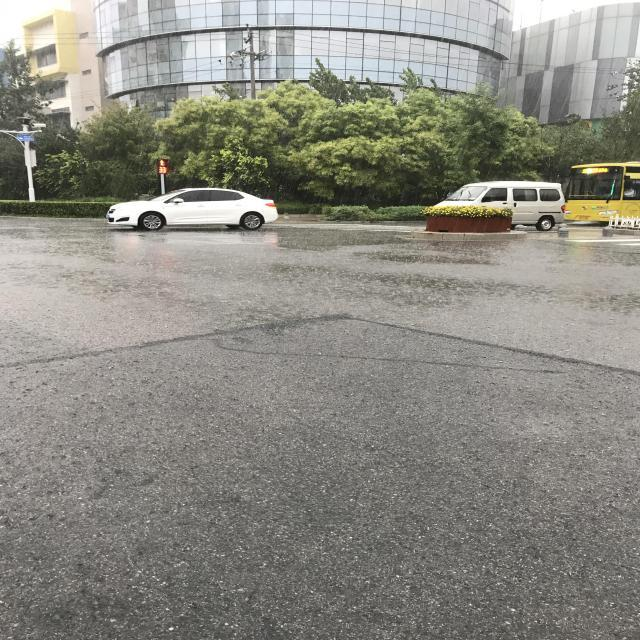car: (186, 360, 230, 542), (180, 74, 230, 223)
